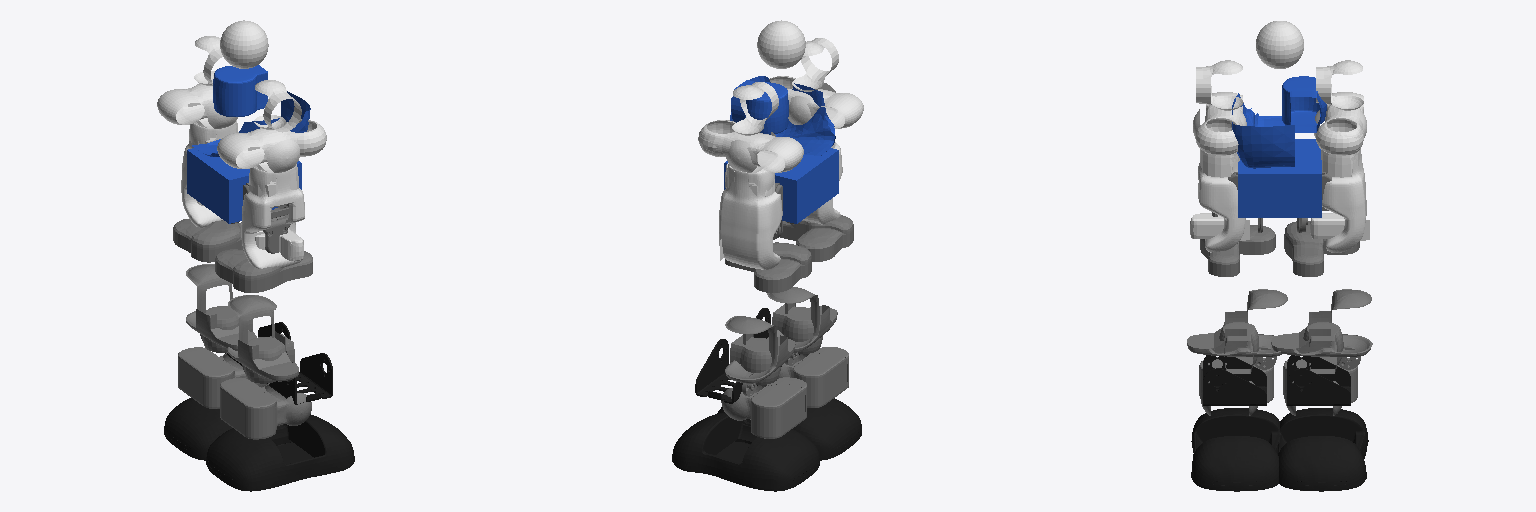
URDF robot description (alpha2):
<?xml version='1.0' encoding='us-ascii'?>
<robot name="alpha2">

  
  <link name="base_link">
    <visual><origin xyz="0 0 0" rpy="0 0 0" /><geometry><box size="0.14 0.14 0.08" /></geometry><material name="blue"><color rgba="0.2 0.4 0.8 1" /></material></visual>
    <collision><origin xyz="0 0 0" rpy="0 0 0" /><geometry><box size="0.14 0.14 0.08" /></geometry></collision>
    <inertial><mass value="0.8" /><inertia ixx="0.00173" ixy="0" ixz="0" iyy="0.00173" iyz="0" izz="0.00261" /></inertial>
  </link>

  <joint name="waist_fixed" type="fixed">
    <parent link="base_link" /><child link="torso_link" /><origin xyz="0 0 0.11" rpy="0 0 0" />
  </joint>

  <link name="torso_link">
    <visual><origin xyz="0 0 0" rpy="0 0 0" /><geometry><mesh filename="meshes/torso_link.obj" /></geometry><material name="blue" /></visual>
    <collision><origin xyz="0 0 0" rpy="0 0 0" /><geometry><box size="0.15 0.20 0.22" /></geometry></collision>
    <inertial><mass value="1.0" /><inertia ixx="0.00737" ixy="0" ixz="0" iyy="0.00591" iyz="0" izz="0.00521" /></inertial>
  </link>

  
  
  <joint name="j1_r_shoulder_pitch" type="revolute">
    <parent link="torso_link" /><child link="r_shoulder_link" /><origin xyz="0 -0.10 0.08" rpy="0 0 0" /><axis xyz="0 1 0" />
    <limit lower="-2.0071" upper="2.0071" effort="4.0" velocity="6.0" />
    <dynamics damping="0.1" friction="0.05" />
  </joint>
  <link name="r_shoulder_link">
    <visual><origin xyz="0 0 -0.02" rpy="0 0 0" /><geometry><mesh filename="meshes/r_shoulder_link.obj" /></geometry><material name="white"><color rgba="0.9 0.9 0.9 1" /></material></visual>
    <collision><origin xyz="0 0 -0.02" rpy="0 0 0" /><geometry><box size="0.05 0.05 0.04" /></geometry></collision>
    <inertial><mass value="0.08" /><inertia ixx="0.000028" ixy="0" ixz="0" iyy="0.000028" iyz="0" izz="0.000033" /></inertial>
  </link>

  
  <joint name="j2_r_shoulder_roll" type="revolute">
    <parent link="r_shoulder_link" /><child link="r_upper_arm_link" /><origin xyz="0 0 -0.04" rpy="0 0 0" /><axis xyz="1 0 0" />
    <limit lower="-1.2217" upper="1.5708" effort="4.0" velocity="6.0" />
    <dynamics damping="0.1" friction="0.05" />
  </joint>
  <link name="r_upper_arm_link">
    <visual><origin xyz="0 0 -0.05" rpy="0 0 0" /><geometry><mesh filename="meshes/r_upper_arm_link.obj" /></geometry><material name="white" /></visual>
    <collision><origin xyz="0 0 -0.05" rpy="0 0 0" /><geometry><box size="0.05 0.05 0.10" /></geometry></collision>
    <inertial><mass value="0.15" /><inertia ixx="0.000156" ixy="0" ixz="0" iyy="0.000156" iyz="0" izz="0.000062" /></inertial>
  </link>

  
  <joint name="j3_r_elbow" type="revolute">
    <parent link="r_upper_arm_link" /><child link="r_forearm_link" /><origin xyz="0 0 -0.10" rpy="0 0 0" /><axis xyz="0 1 0" />
    <limit lower="-1.1345" upper="1.1345" effort="4.0" velocity="6.0" />
    <dynamics damping="0.1" friction="0.05" />
  </joint>
  <link name="r_forearm_link">
    <visual><origin xyz="0 0 -0.05" rpy="0 0 0" /><geometry><mesh filename="meshes/r_forearm_link.obj" /></geometry><material name="white" /></visual>
    <collision><origin xyz="0 0 -0.05" rpy="0 0 0" /><geometry><box size="0.045 0.045 0.10" /></geometry></collision>
    <inertial><mass value="0.12" /><inertia ixx="0.00012" ixy="0" ixz="0" iyy="0.00012" iyz="0" izz="0.00004" /></inertial>
  </link>

  
  <joint name="j17_r_finger" type="revolute">
    <parent link="r_forearm_link" /><child link="r_hand_link" /><origin xyz="0 0 -0.10" rpy="0 0 0" /><axis xyz="0 1 0" />
    <limit lower="-0.4363" upper="0.0873" effort="0.5" velocity="6.0" />
    <dynamics damping="0.05" friction="0.02" />
  </joint>
  <link name="r_hand_link">
    <visual><origin xyz="0 0 -0.03" rpy="0 0 0" /><geometry><mesh filename="meshes/r_hand_link.obj" /></geometry><material name="white" /></visual>
    <collision><origin xyz="0 0 -0.03" rpy="0 0 0" /><geometry><box size="0.04 0.04 0.06" /></geometry></collision>
    <inertial><mass value="0.05" /><inertia ixx="0.000021" ixy="0" ixz="0" iyy="0.000021" iyz="0" izz="0.000013" /></inertial>
  </link>

  
  <joint name="j4_l_shoulder_pitch" type="revolute">
    <parent link="torso_link" /><child link="l_shoulder_link" /><origin xyz="0 0.10 0.08" rpy="0 0 0" /><axis xyz="0 1 0" />
    <limit lower="-2.0071" upper="2.0071" effort="4.0" velocity="6.0" />
    <dynamics damping="0.1" friction="0.05" />
  </joint>
  <link name="l_shoulder_link">
    <visual><origin xyz="0 0 -0.02" rpy="0 0 0" /><geometry><mesh filename="meshes/l_shoulder_link.obj" /></geometry><material name="white" /></visual>
    <collision><origin xyz="0 0 -0.02" rpy="0 0 0" /><geometry><box size="0.05 0.05 0.04" /></geometry></collision>
    <inertial><mass value="0.08" /><inertia ixx="0.000028" ixy="0" ixz="0" iyy="0.000028" iyz="0" izz="0.000033" /></inertial>
  </link>

  <joint name="j5_l_shoulder_roll" type="revolute">
    <parent link="l_shoulder_link" /><child link="l_upper_arm_link" /><origin xyz="0 0 -0.04" rpy="0 0 0" /><axis xyz="1 0 0" />
    <limit lower="-1.5708" upper="1.2217" effort="4.0" velocity="6.0" />
    <dynamics damping="0.1" friction="0.05" />
  </joint>
  <link name="l_upper_arm_link">
    <visual><origin xyz="0 0 -0.05" rpy="0 0 0" /><geometry><mesh filename="meshes/l_upper_arm_link.obj" /></geometry><material name="white" /></visual>
    <collision><origin xyz="0 0 -0.05" rpy="0 0 0" /><geometry><box size="0.05 0.05 0.10" /></geometry></collision>
    <inertial><mass value="0.15" /><inertia ixx="0.000156" ixy="0" ixz="0" iyy="0.000156" iyz="0" izz="0.000062" /></inertial>
  </link>

  <joint name="j6_l_elbow" type="revolute">
    <parent link="l_upper_arm_link" /><child link="l_forearm_link" /><origin xyz="0 0 -0.10" rpy="0 0 0" /><axis xyz="0 1 0" />
    <limit lower="-1.1345" upper="1.1345" effort="4.0" velocity="6.0" />
    <dynamics damping="0.1" friction="0.05" />
  </joint>
  <link name="l_forearm_link">
    <visual><origin xyz="0 0 -0.05" rpy="0 0 0" /><geometry><mesh filename="meshes/l_forearm_link.obj" /></geometry><material name="white" /></visual>
    <collision><origin xyz="0 0 -0.05" rpy="0 0 0" /><geometry><box size="0.045 0.045 0.10" /></geometry></collision>
    <inertial><mass value="0.12" /><inertia ixx="0.00012" ixy="0" ixz="0" iyy="0.00012" iyz="0" izz="0.00004" /></inertial>
  </link>

  <joint name="j18_l_finger" type="revolute">
    <parent link="l_forearm_link" /><child link="l_hand_link" /><origin xyz="0 0 -0.10" rpy="0 0 0" /><axis xyz="0 1 0" />
    <limit lower="-0.4363" upper="0.0873" effort="0.5" velocity="6.0" />
    <dynamics damping="0.05" friction="0.02" />
  </joint>
  <link name="l_hand_link">
    <visual><origin xyz="0 0 -0.03" rpy="0 0 0" /><geometry><mesh filename="meshes/l_hand_link.obj" /></geometry><material name="white" /></visual>
    <collision><origin xyz="0 0 -0.03" rpy="0 0 0" /><geometry><box size="0.04 0.04 0.06" /></geometry></collision>
    <inertial><mass value="0.05" /><inertia ixx="0.000021" ixy="0" ixz="0" iyy="0.000021" iyz="0" izz="0.000013" /></inertial>
  </link>

  
  
  <joint name="j7_r_hip_roll" type="revolute">
    <parent link="base_link" /><child link="r_hip_link" /><origin xyz="0 -0.07 -0.02" rpy="0 0 0" /><axis xyz="1 0 0" />
    <limit lower="-0.3491" upper="1.3963" effort="12.0" velocity="5.0" />
    <dynamics damping="0.15" friction="0.08" />
  </joint>
  <link name="r_hip_link">
    <visual><origin xyz="0 0 -0.015" rpy="0 0 0" /><geometry><mesh filename="meshes/r_hip_link.obj" /></geometry><material name="grey"><color rgba="0.5 0.5 0.5 1" /></material></visual>
    <collision><origin xyz="0 0 -0.015" rpy="0 0 0" /><geometry><box size="0.07 0.07 0.03" /></geometry></collision>
    <inertial><mass value="0.08" /><inertia ixx="0.000039" ixy="0" ixz="0" iyy="0.000039" iyz="0" izz="0.000065" /></inertial>
  </link>

  
  <joint name="j8_r_hip_pitch" type="revolute">
    <parent link="r_hip_link" /><child link="r_thigh_link" /><origin xyz="0 0 -0.03" rpy="0 0 0" /><axis xyz="0 1 0" />
    <limit lower="-0.7854" upper="2.7053" effort="12.0" velocity="5.0" />
    <dynamics damping="0.15" friction="0.08" />
  </joint>
  <link name="r_thigh_link">
    <visual><origin xyz="0 0 -0.075" rpy="0 0 0" /><geometry><mesh filename="meshes/r_thigh_link.obj" /></geometry><material name="grey" /></visual>
    <collision><origin xyz="0 0 -0.075" rpy="0 0 0" /><geometry><box size="0.07 0.07 0.15" /></geometry></collision>
    <inertial><mass value="0.30" /><inertia ixx="0.00068" ixy="0" ixz="0" iyy="0.00068" iyz="0" izz="0.000245" /></inertial>
  </link>

  
  <joint name="j9_r_knee" type="revolute">
    <parent link="r_thigh_link" /><child link="r_shank_link" /><origin xyz="0 0 -0.15" rpy="0 0 0" /><axis xyz="0 1 0" />
    <limit lower="-1.9199" upper="1.4835" effort="12.0" velocity="5.0" />
    <dynamics damping="0.15" friction="0.08" />
  </joint>
  <link name="r_shank_link">
    <visual><origin xyz="0 0 -0.075" rpy="0 0 0" /><geometry><mesh filename="meshes/r_shank_link.obj" /></geometry><material name="grey" /></visual>
    <collision><origin xyz="0 0 -0.075" rpy="0 0 0" /><geometry><box size="0.06 0.06 0.15" /></geometry></collision>
    <inertial><mass value="0.25" /><inertia ixx="0.000544" ixy="0" ixz="0" iyy="0.000544" iyz="0" izz="0.00015" /></inertial>
  </link>

  
  <joint name="j10_r_ankle_pitch" type="revolute">
    <parent link="r_shank_link" /><child link="r_ankle_link" /><origin xyz="0 0 -0.15" rpy="0 0 0" /><axis xyz="0 1 0" />
    <limit lower="-1.7453" upper="1.3963" effort="8.0" velocity="5.0" />
    <dynamics damping="0.12" friction="0.06" />
  </joint>
  <link name="r_ankle_link">
    <visual><origin xyz="0 0 -0.015" rpy="0 0 0" /><geometry><mesh filename="meshes/r_ankle_link.obj" /></geometry><material name="grey" /></visual>
    <collision><origin xyz="0 0 -0.015" rpy="0 0 0" /><geometry><box size="0.05 0.05 0.03" /></geometry></collision>
    <inertial><mass value="0.08" /><inertia ixx="0.000039" ixy="0" ixz="0" iyy="0.000039" iyz="0" izz="0.000065" /></inertial>
  </link>

  
  <joint name="j11_r_ankle_roll" type="revolute">
    <parent link="r_ankle_link" /><child link="r_foot_link" /><origin xyz="0 0 -0.03" rpy="0 0 0" /><axis xyz="1 0 0" />
    <limit lower="-0.3491" upper="1.2217" effort="8.0" velocity="5.0" />
    <dynamics damping="0.12" friction="0.06" />
  </joint>
  <link name="r_foot_link">
    <visual><origin xyz="0.03 0 -0.025" rpy="0 0 0" /><geometry><mesh filename="meshes/r_foot_link.obj" /></geometry><material name="black"><color rgba="0.15 0.15 0.15 1" /></material></visual>
    <collision><origin xyz="0.03 0 -0.025" rpy="0 0 0" /><geometry><box size="0.16 0.09 0.04" /></geometry></collision>
    <inertial><mass value="0.15" /><inertia ixx="0.000118" ixy="0" ixz="0" iyy="0.000257" iyz="0" izz="0.000326" /></inertial>
  </link>

  
  <joint name="j12_l_hip_roll" type="revolute">
    <parent link="base_link" /><child link="l_hip_link" /><origin xyz="0 0.07 -0.02" rpy="0 0 0" /><axis xyz="1 0 0" />
    <limit lower="-1.3963" upper="0.3491" effort="12.0" velocity="5.0" />
    <dynamics damping="0.15" friction="0.08" />
  </joint>
  <link name="l_hip_link">
    <visual><origin xyz="0 0 -0.015" rpy="0 0 0" /><geometry><mesh filename="meshes/l_hip_link.obj" /></geometry><material name="grey" /></visual>
    <collision><origin xyz="0 0 -0.015" rpy="0 0 0" /><geometry><box size="0.07 0.07 0.03" /></geometry></collision>
    <inertial><mass value="0.08" /><inertia ixx="0.000039" ixy="0" ixz="0" iyy="0.000039" iyz="0" izz="0.000065" /></inertial>
  </link>

  <joint name="j13_l_hip_pitch" type="revolute">
    <parent link="l_hip_link" /><child link="l_thigh_link" /><origin xyz="0 0 -0.03" rpy="0 0 0" /><axis xyz="0 1 0" />
    <limit lower="-2.7053" upper="0.7854" effort="12.0" velocity="5.0" />
    <dynamics damping="0.15" friction="0.08" />
  </joint>
  <link name="l_thigh_link">
    <visual><origin xyz="0 0 -0.075" rpy="0 0 0" /><geometry><mesh filename="meshes/l_thigh_link.obj" /></geometry><material name="grey" /></visual>
    <collision><origin xyz="0 0 -0.075" rpy="0 0 0" /><geometry><box size="0.07 0.07 0.15" /></geometry></collision>
    <inertial><mass value="0.30" /><inertia ixx="0.00068" ixy="0" ixz="0" iyy="0.00068" iyz="0" izz="0.000245" /></inertial>
  </link>

  <joint name="j14_l_knee" type="revolute">
    <parent link="l_thigh_link" /><child link="l_shank_link" /><origin xyz="0 0 -0.15" rpy="0 0 0" /><axis xyz="0 1 0" />
    <limit lower="-1.4835" upper="1.9199" effort="12.0" velocity="5.0" />
    <dynamics damping="0.15" friction="0.08" />
  </joint>
  <link name="l_shank_link">
    <visual><origin xyz="0 0 -0.075" rpy="0 0 0" /><geometry><mesh filename="meshes/l_shank_link.obj" /></geometry><material name="grey" /></visual>
    <collision><origin xyz="0 0 -0.075" rpy="0 0 0" /><geometry><box size="0.06 0.06 0.15" /></geometry></collision>
    <inertial><mass value="0.25" /><inertia ixx="0.000544" ixy="0" ixz="0" iyy="0.000544" iyz="0" izz="0.00015" /></inertial>
  </link>

  <joint name="j15_l_ankle_pitch" type="revolute">
    <parent link="l_shank_link" /><child link="l_ankle_link" /><origin xyz="0 0 -0.15" rpy="0 0 0" /><axis xyz="0 1 0" />
    <limit lower="-1.3963" upper="1.7453" effort="8.0" velocity="5.0" />
    <dynamics damping="0.12" friction="0.06" />
  </joint>
  <link name="l_ankle_link">
    <visual><origin xyz="0 0 -0.015" rpy="0 0 0" /><geometry><mesh filename="meshes/l_ankle_link.obj" /></geometry><material name="grey" /></visual>
    <collision><origin xyz="0 0 -0.015" rpy="0 0 0" /><geometry><box size="0.05 0.05 0.03" /></geometry></collision>
    <inertial><mass value="0.08" /><inertia ixx="0.000039" ixy="0" ixz="0" iyy="0.000039" iyz="0" izz="0.000065" /></inertial>
  </link>

  <joint name="j16_l_ankle_roll" type="revolute">
    <parent link="l_ankle_link" /><child link="l_foot_link" /><origin xyz="0 0 -0.03" rpy="0 0 0" /><axis xyz="1 0 0" />
    <limit lower="-1.2217" upper="0.3491" effort="8.0" velocity="5.0" />
    <dynamics damping="0.12" friction="0.06" />
  </joint>
  <link name="l_foot_link">
    <visual><origin xyz="0.03 0 -0.025" rpy="0 0 0" /><geometry><mesh filename="meshes/l_foot_link.obj" /></geometry><material name="black" /></visual>
    <collision><origin xyz="0.03 0 -0.025" rpy="0 0 0" /><geometry><box size="0.16 0.09 0.04" /></geometry></collision>
    <inertial><mass value="0.15" /><inertia ixx="0.000118" ixy="0" ixz="0" iyy="0.000257" iyz="0" izz="0.000326" /></inertial>
  </link>

  
  
  <joint name="j19_head_yaw" type="revolute">
    <parent link="torso_link" /><child link="neck_link" /><origin xyz="0 0 0.12" rpy="0 0 0" /><axis xyz="0 0 1" />
    <limit lower="-0.7854" upper="0.7854" effort="1.5" velocity="6.0" />
    <dynamics damping="0.05" friction="0.02" />
  </joint>
  <link name="neck_link">
    <visual><origin xyz="0 0 0.015" rpy="0 0 0" /><geometry><mesh filename="meshes/neck_link.obj" /></geometry><material name="white" /></visual>
    <collision><origin xyz="0 0 0.015" rpy="0 0 0" /><geometry><box size="0.04 0.04 0.03" /></geometry></collision>
    <inertial><mass value="0.05" /><inertia ixx="0.00001" ixy="0" ixz="0" iyy="0.00001" iyz="0" izz="0.000013" /></inertial>
  </link>

  
  <joint name="j20_head_pitch" type="revolute">
    <parent link="neck_link" /><child link="head_link" /><origin xyz="0 0 0.03" rpy="0 0 0" /><axis xyz="0 1 0" />
    <limit lower="-0.2618" upper="0.6109" effort="1.5" velocity="6.0" />
    <dynamics damping="0.05" friction="0.02" />
  </joint>
  <link name="head_link">
    <visual><origin xyz="0 0 0.07" rpy="0 0 0" /><geometry><mesh filename="meshes/head_link.obj" /></geometry><material name="white" /></visual>
    <collision><origin xyz="0 0 0.07" rpy="0 0 0" /><geometry><box size="0.11 0.11 0.12" /></geometry></collision>
    <inertial><mass value="0.30" /><inertia ixx="0.000665" ixy="0" ixz="0" iyy="0.000665" iyz="0" izz="0.000605" /></inertial>
  </link>

</robot>

--- Render facts (derived) ---
3 views of the same robot in one strip: view 1: azimuth 30°, elevation 25°; view 2: azimuth 150°, elevation 25°; view 3: azimuth 270°, elevation 25° (orthographic).
Model alpha2 with 22 links and 21 joints (20 revolute, 1 fixed), rooted at base_link, posed every joint at zero.
Links seen in each view (by area): view 1: r_foot_link, r_forearm_link, r_ankle_link, r_shank_link, torso_link, base_link, l_foot_link, l_shank_link, r_upper_arm_link, l_ankle_link, r_thigh_link, l_forearm_link (+7 smaller); view 2: l_foot_link, l_forearm_link, l_ankle_link, torso_link, l_shank_link, base_link, r_foot_link, l_upper_arm_link, r_shank_link, r_ankle_link, r_thigh_link, l_thigh_link (+5 smaller); view 3: l_foot_link, r_foot_link, base_link, torso_link, l_shank_link, l_forearm_link, r_shank_link, r_forearm_link, l_upper_arm_link, neck_link, r_upper_arm_link, l_thigh_link (+7 smaller).
Link boxes in pixels (<box>): r_foot_link: <box>206,353,354,491</box>; r_forearm_link: <box>241,140,304,268</box>; r_ankle_link: <box>220,365,311,439</box>; r_shank_link: <box>227,295,298,383</box>; torso_link: <box>192,65,310,156</box>; base_link: <box>187,148,301,223</box>; l_foot_link: <box>164,322,291,460</box>; l_shank_link: <box>186,264,256,352</box>; r_upper_arm_link: <box>217,119,326,168</box>; l_ankle_link: <box>178,334,266,408</box>; r_thigh_link: <box>215,249,312,292</box>; l_forearm_link: <box>181,83,238,227</box>; l_foot_link: <box>672,339,819,491</box>; l_forearm_link: <box>719,132,782,269</box>; l_ankle_link: <box>721,372,806,438</box>; torso_link: <box>730,76,835,155</box>; l_shank_link: <box>725,316,795,384</box>; base_link: <box>724,148,838,223</box>; r_foot_link: <box>717,308,861,460</box>; l_upper_arm_link: <box>698,120,803,172</box>; r_shank_link: <box>767,287,837,353</box>; r_ankle_link: <box>778,342,848,407</box>; r_thigh_link: <box>780,215,853,261</box>; l_thigh_link: <box>725,242,811,292</box>; l_foot_link: <box>1278,355,1368,491</box>; r_foot_link: <box>1191,355,1281,491</box>; base_link: <box>1238,139,1321,217</box>; torso_link: <box>1232,76,1326,168</box>; l_shank_link: <box>1271,289,1372,373</box>; l_forearm_link: <box>1314,109,1366,252</box>; r_shank_link: <box>1187,289,1287,373</box>; r_forearm_link: <box>1193,109,1246,252</box>; l_upper_arm_link: <box>1316,92,1363,155</box>; neck_link: <box>1256,21,1303,68</box>; r_upper_arm_link: <box>1195,92,1242,155</box>; l_thigh_link: <box>1284,221,1359,276</box>.
Bounding box of the posed robot: 0.2471 × 0.309 × 0.791 m (x, y, z).
Meshes: 21 distinct files referenced, 20 mesh visuals loaded (20 OBJ); not drawn: 1 (reference not matched to a file when rendering).
